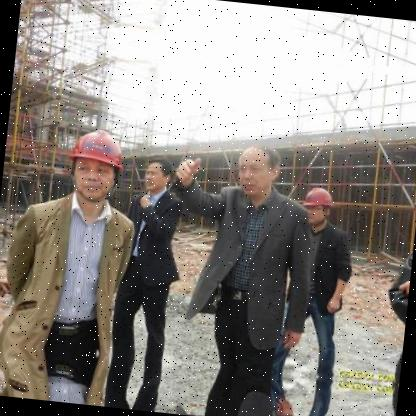capacete: (64, 126, 128, 173), (298, 181, 336, 214)
